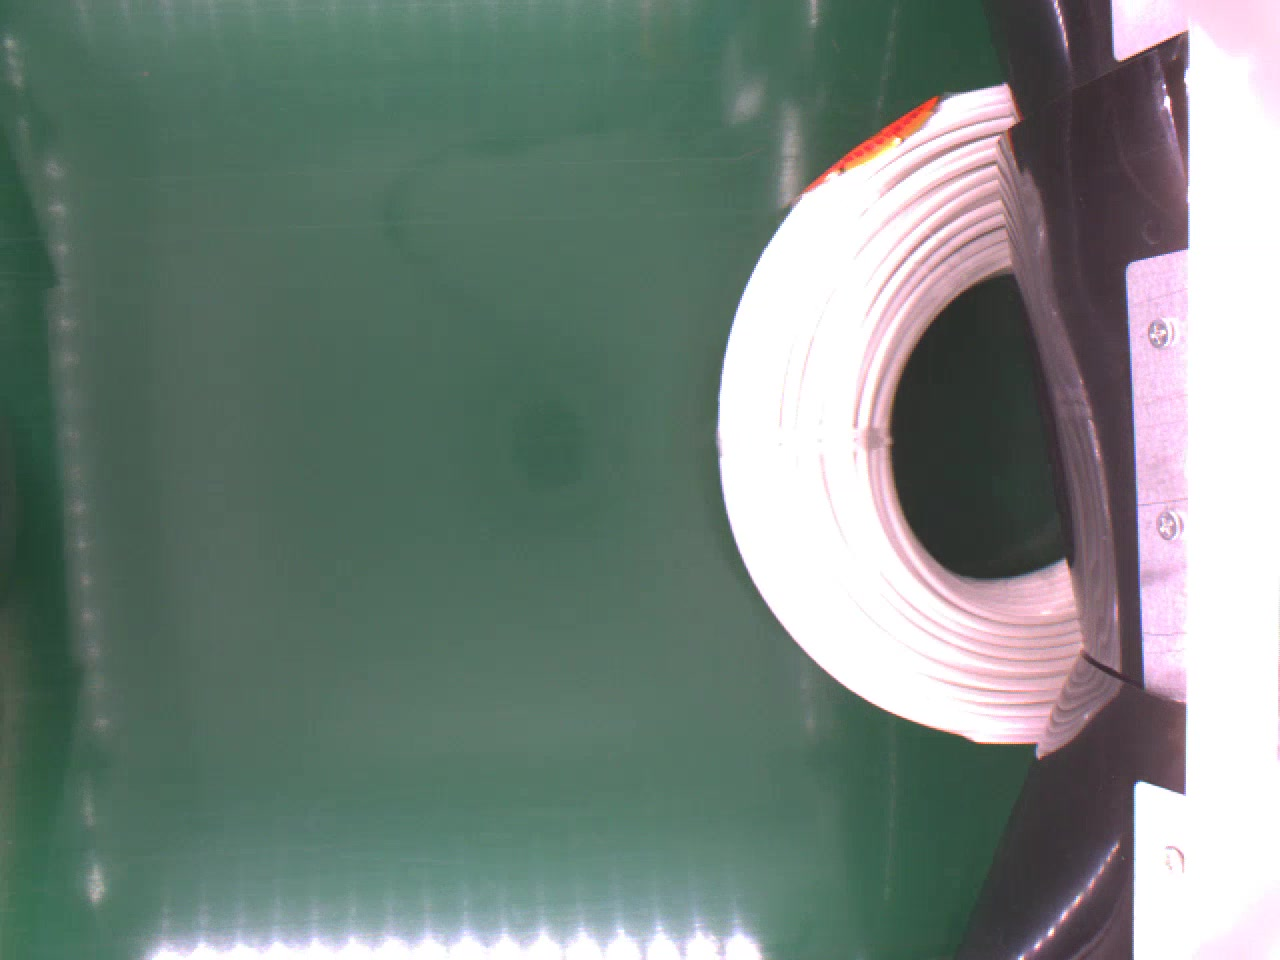white: (716, 81, 1099, 749)
